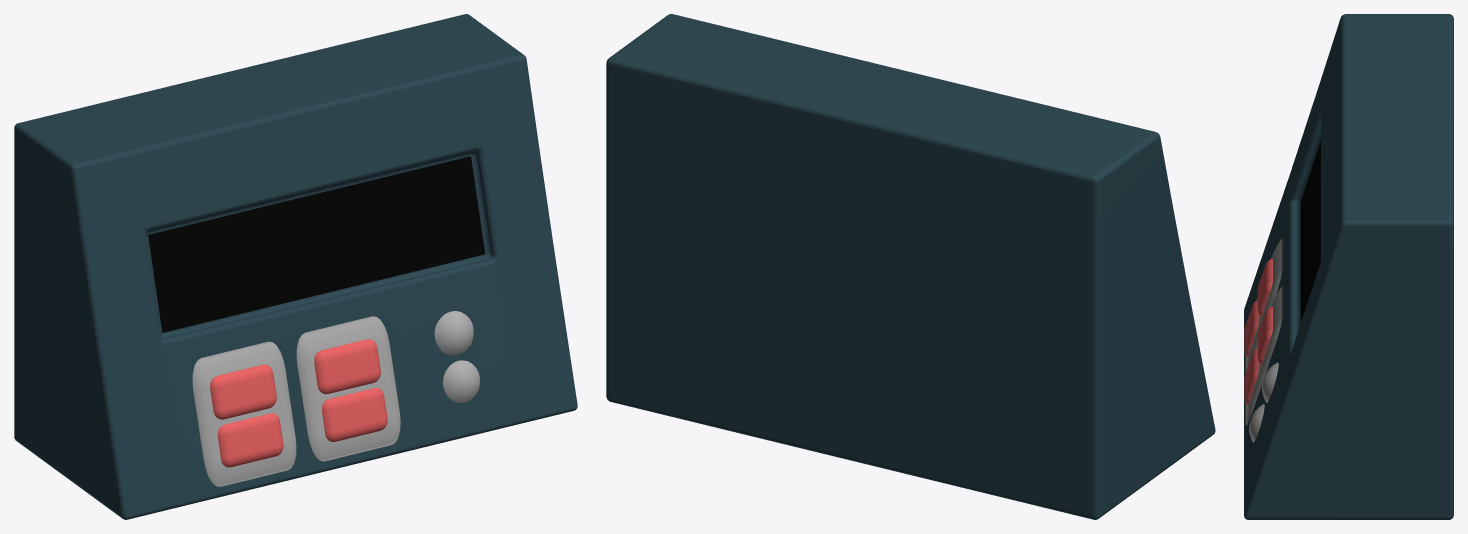
The model's file is medidor.fbx.
The picture shows the model from 3 angles, left to right: view 1: azimuth 30°, elevation 25°; view 2: azimuth 150°, elevation 25°; view 3: azimuth 270°, elevation 25°; orthographic projection. The views are drawn at different scales.
Visible parts, largest first — view 1: pSphere3; view 2: pSphere3; view 3: pSphere3.
Boxes of the visible parts, bbox=[...] form: pSphere3: bbox=[14, 14, 577, 519]; pSphere3: bbox=[606, 14, 1215, 519]; pSphere3: bbox=[1244, 14, 1453, 519].
Size of the model in its own units: 15 by 10 by 6.35.
